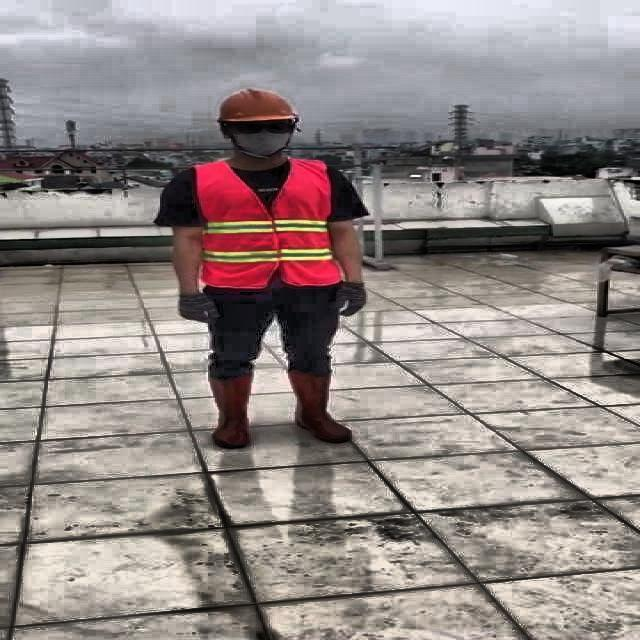safety_helmet: (214, 86, 298, 125)
safety_jacket: (192, 158, 343, 291)
